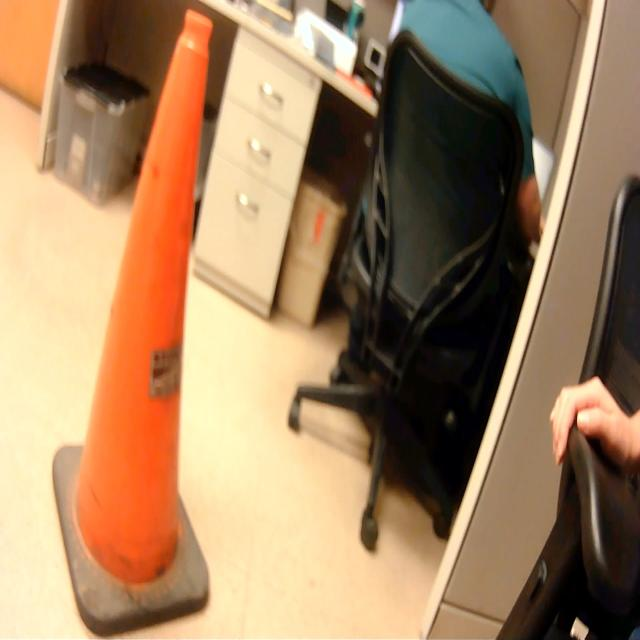traffic cone: (49, 1, 225, 640)
